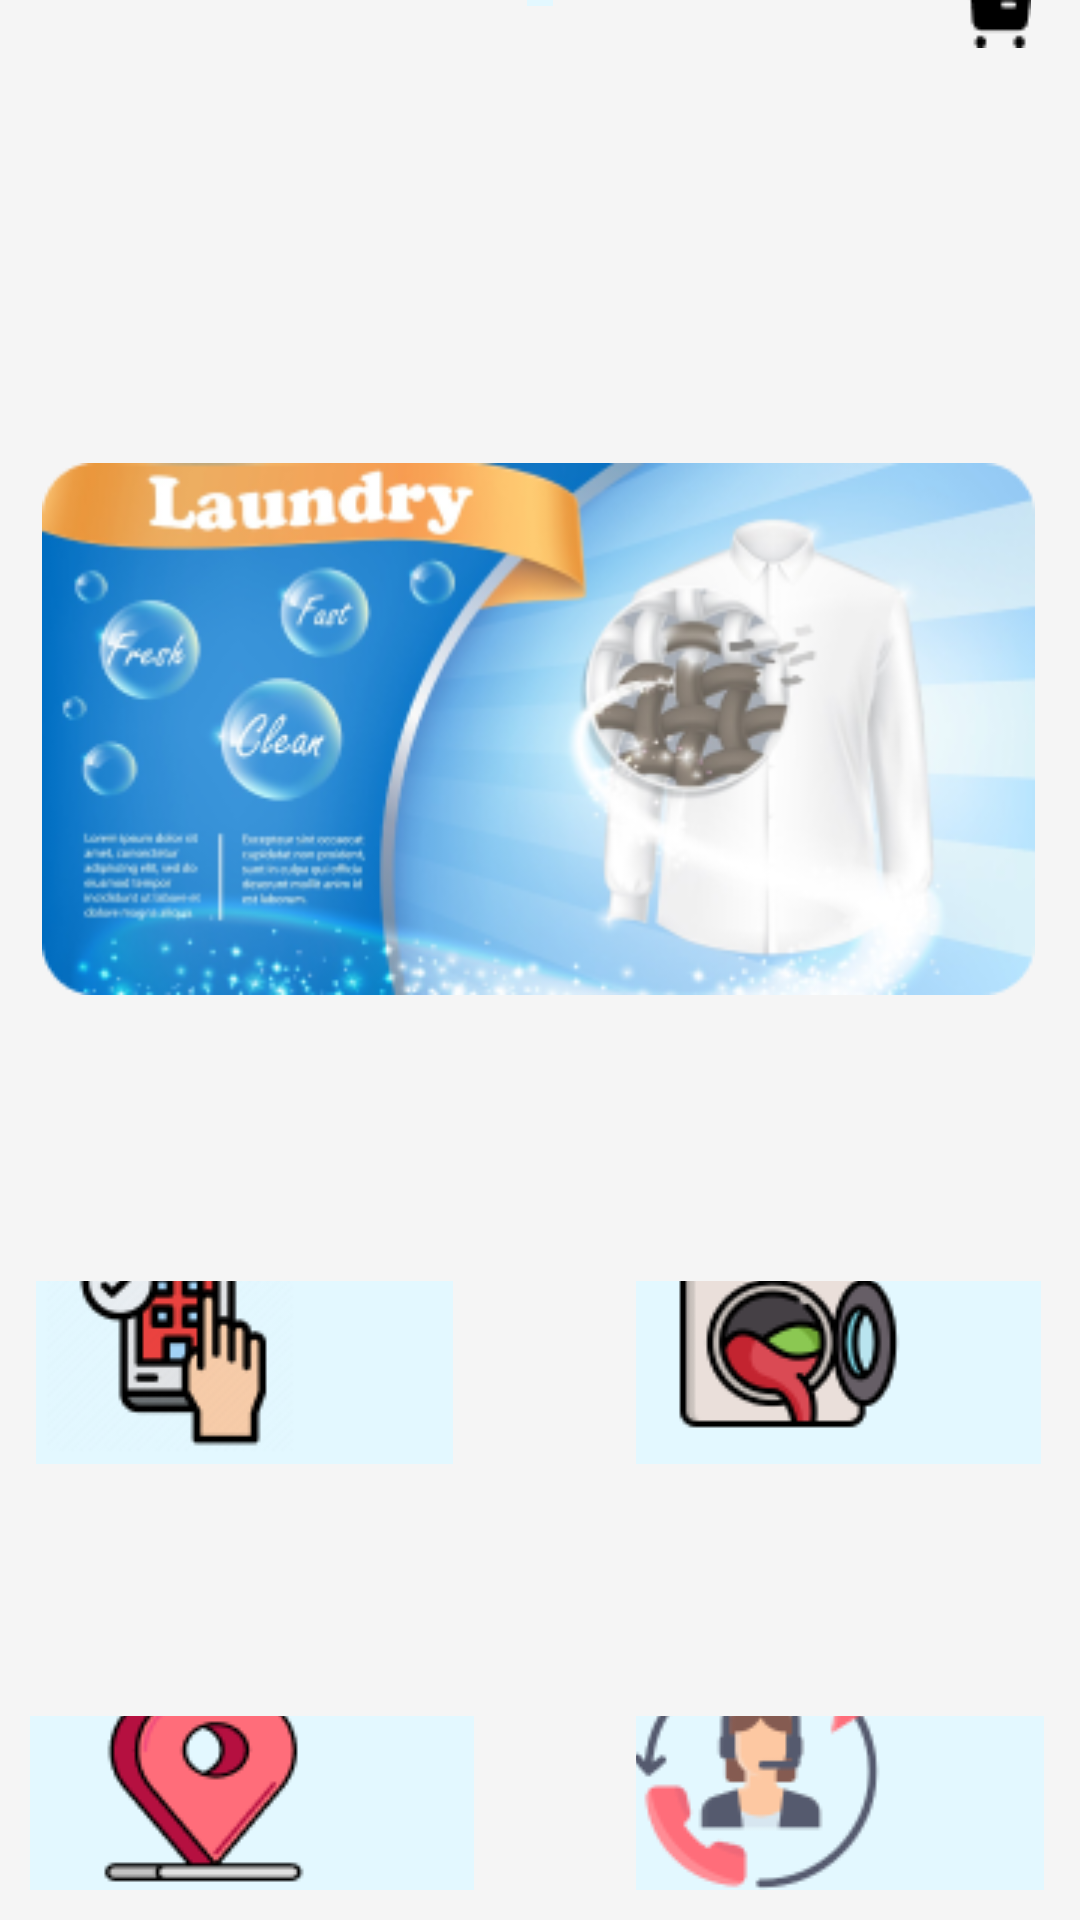

Locate icon controls on the screen. Image size 1080x1920, boxes as region(x1, y1, x2, y2).
btnjenislayanan: region(679, 1281, 900, 1428)
btnpemesanan: region(79, 1281, 267, 1446)
lihatlokasi: region(104, 1716, 304, 1882)
